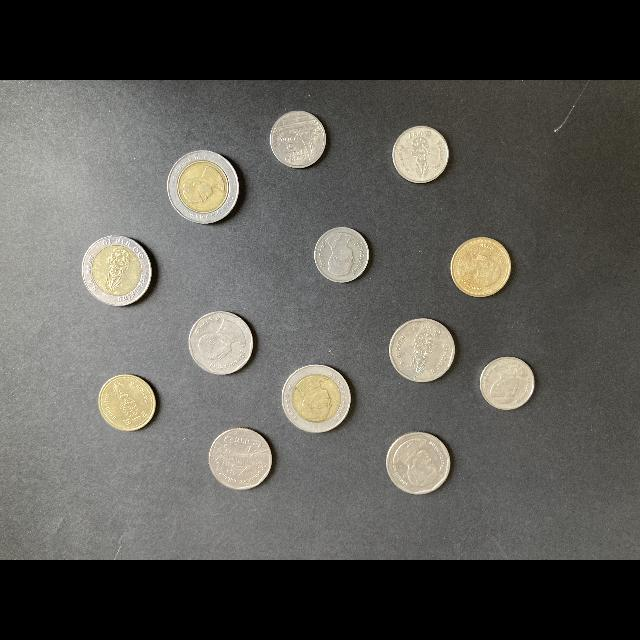1 Bath: (270, 107, 331, 173), (310, 224, 373, 287), (391, 124, 453, 186), (479, 355, 538, 415)
10 Bath: (164, 149, 243, 229), (79, 233, 159, 311), (278, 362, 356, 440)
2 Bath: (446, 233, 516, 302), (96, 371, 160, 442)
5 Bath: (187, 310, 258, 379), (209, 426, 277, 497), (390, 315, 459, 384), (387, 430, 455, 499)
